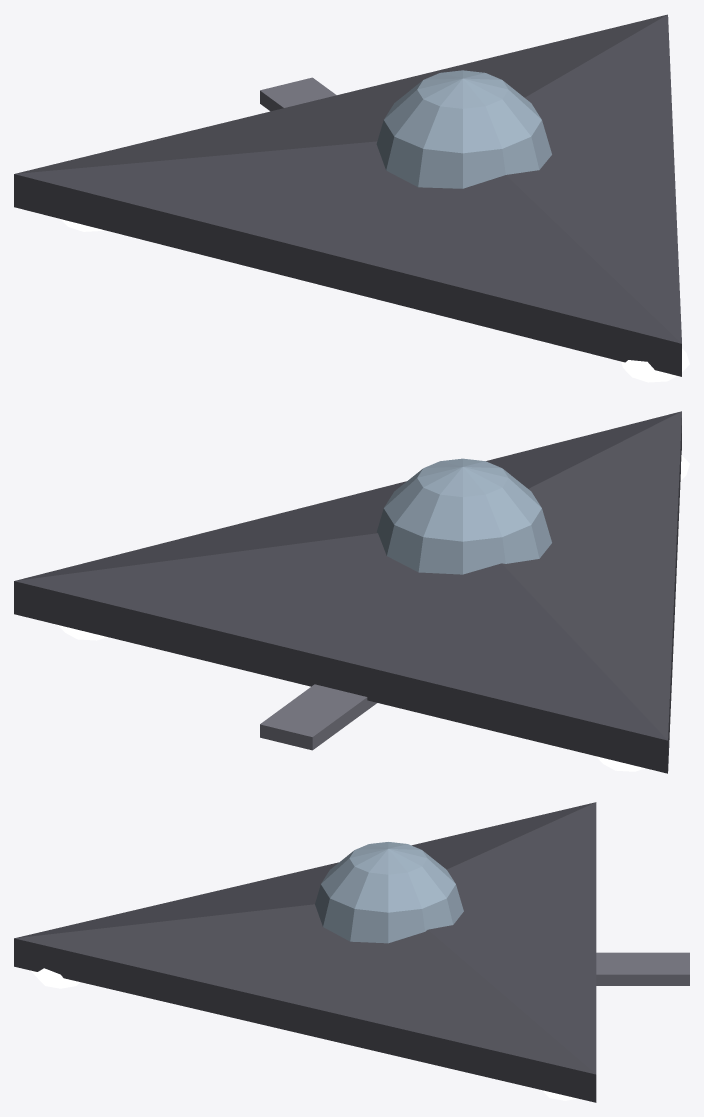
Rendered from triangle.glb.
The picture shows the model from 3 angles, top to bottom: view 1: azimuth 30°, elevation 25°; view 2: azimuth 150°, elevation 25°; view 3: azimuth 270°, elevation 25°; orthographic projection. The views are drawn at different scales.
Visible parts, largest first — view 1: triangle, dome.002; view 2: triangle, dome.002; view 3: triangle, dome.002.
Boxes of the visible parts, <box> form: triangle: <box>14,14,689,382</box>; dome.002: <box>376,70,551,188</box>; triangle: <box>14,411,689,773</box>; dome.002: <box>376,458,551,574</box>; triangle: <box>14,802,689,1102</box>; dome.002: <box>315,842,463,943</box>.
Size of the model in its own units: 6.2 by 1.43 by 6.5.
